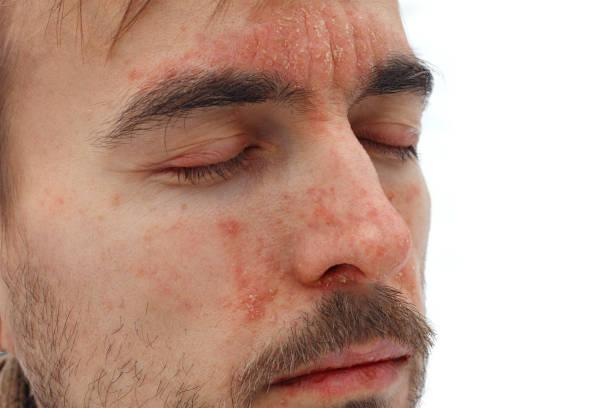Dry-Skin: (150, 195, 308, 315), (213, 0, 409, 86)
